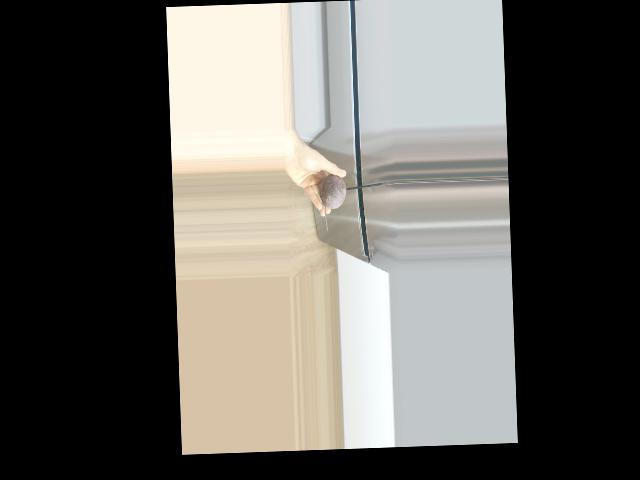beet: (319, 174, 347, 232)
